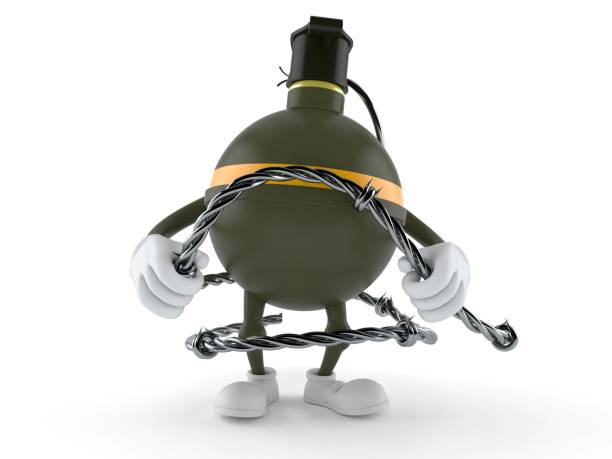e1: (208, 15, 407, 313)
